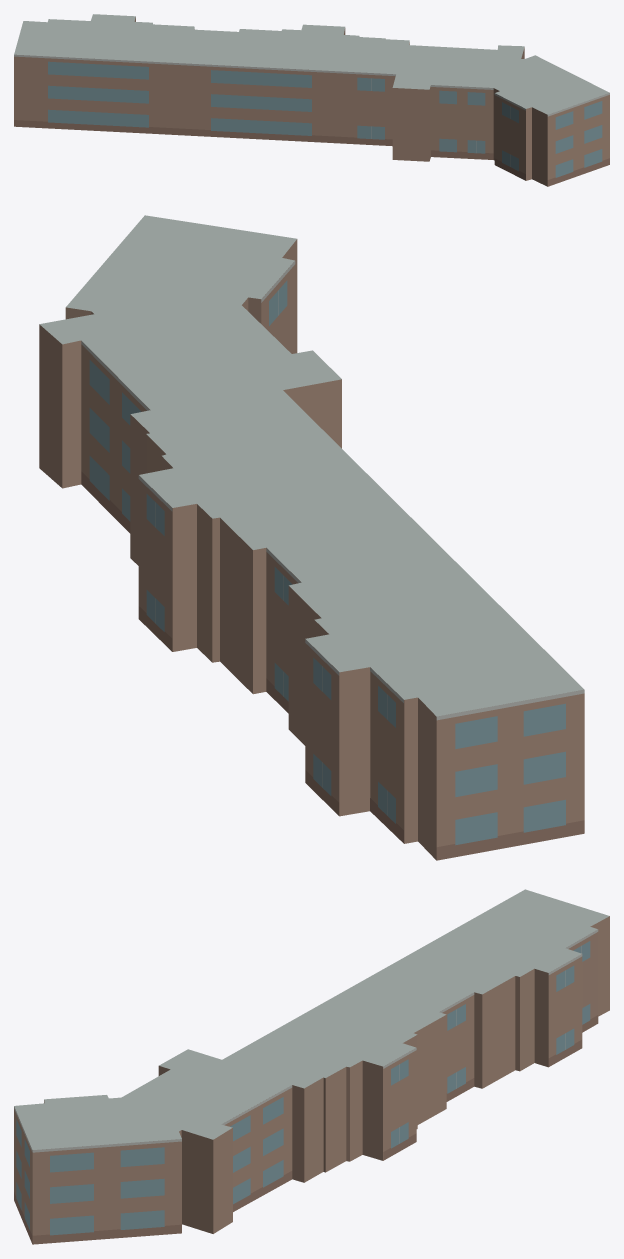
The model's file is survey-upis-32763337.glb.
3 renders of one model, top to bottom at view 1: azimuth 30°, elevation 25°; view 2: azimuth 150°, elevation 25°; view 3: azimuth 270°, elevation 25°, orthographic. The views are drawn at different scales.
Visible parts, largest first — view 1: survey-upis-32763337.tmp; view 2: survey-upis-32763337.tmp; view 3: survey-upis-32763337.tmp.
Part boxes in pixels (x1,y1,x2,y2): survey-upis-32763337.tmp: [14, 14, 609, 186]; survey-upis-32763337.tmp: [39, 215, 584, 860]; survey-upis-32763337.tmp: [14, 889, 609, 1244].
Size of the model in its own units: 54.23 by 9.15 by 52.37.
